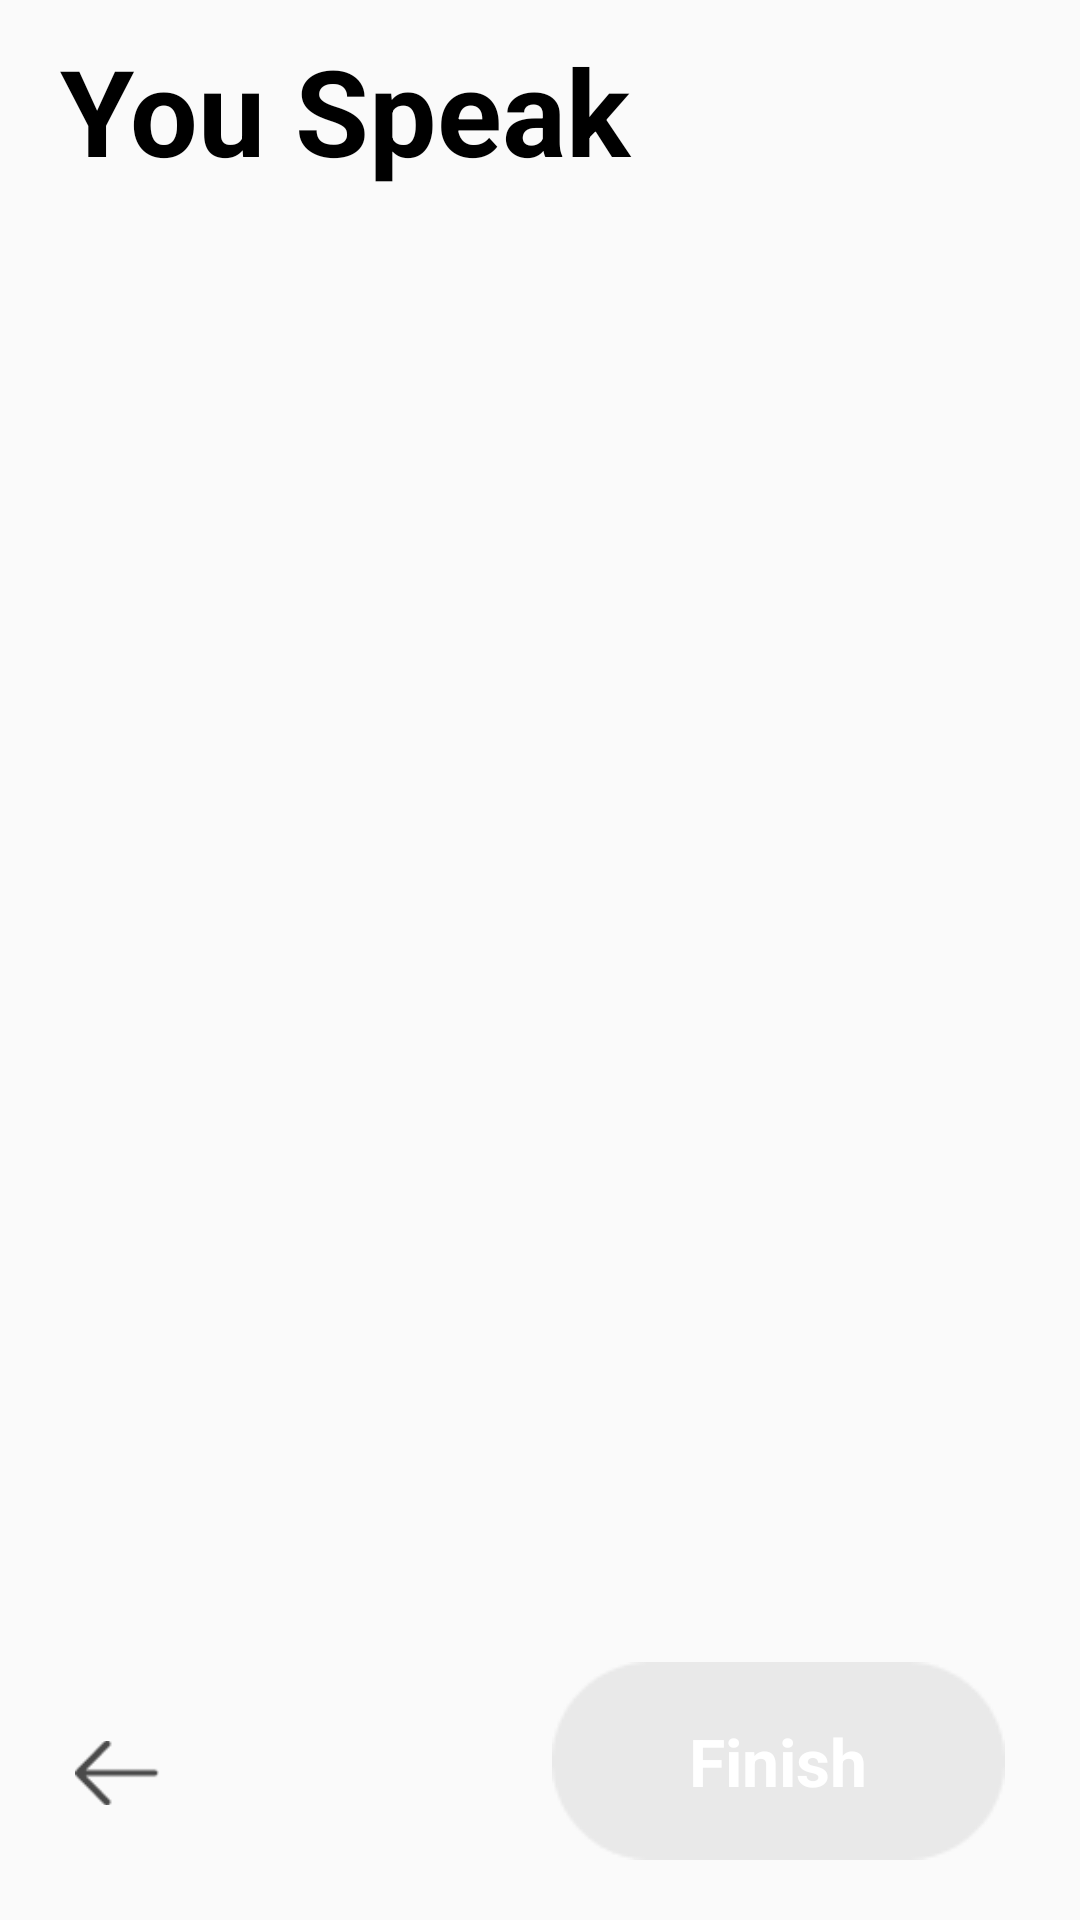

Icon click points for this 1080w x 1920h phone screenshot, format (x,y):
left arrow: (117,1773)
